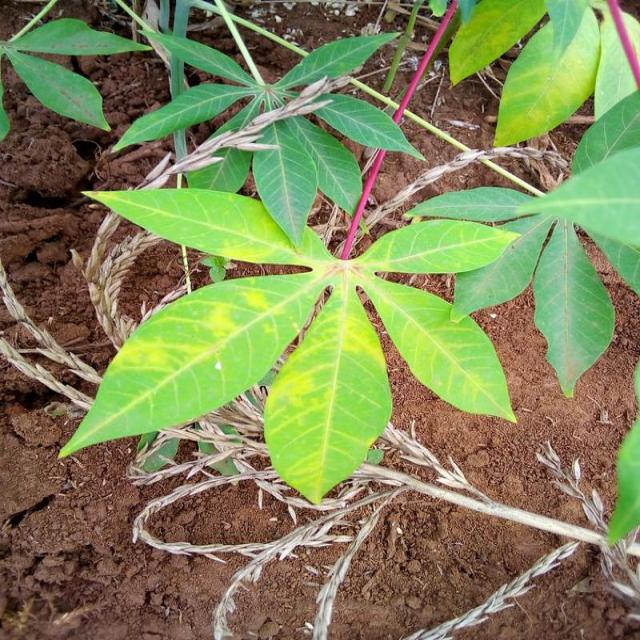cassava leaf: (56, 266, 334, 460), (262, 268, 393, 504), (355, 269, 518, 423), (80, 185, 334, 266), (491, 1, 601, 149), (531, 215, 615, 398)
